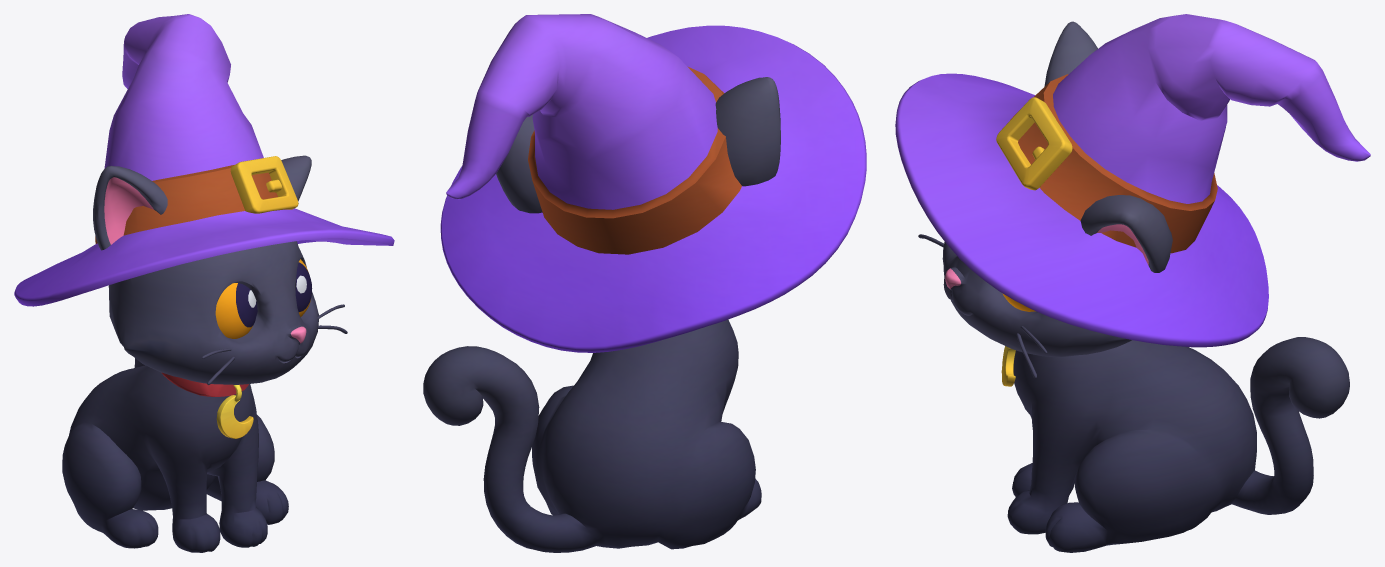
File: WBA_Character_WitchCat_01.fbx
3 views of the same model, side by side, from view 1: azimuth 30°, elevation 25°; view 2: azimuth 150°, elevation 25°; view 3: azimuth 270°, elevation 25° (orthographic). The views are drawn at different scales.
Visible parts, largest first — view 1: WBA_Character_WitchCat_01; view 2: WBA_Character_WitchCat_01; view 3: WBA_Character_WitchCat_01.
Boxes of the visible parts, x1,y1,x2,y2 form: WBA_Character_WitchCat_01: (14, 14, 394, 552); WBA_Character_WitchCat_01: (423, 14, 866, 552); WBA_Character_WitchCat_01: (895, 14, 1370, 552).
Bounding box in the file's own units: 79.83 × 104 × 86.43.
